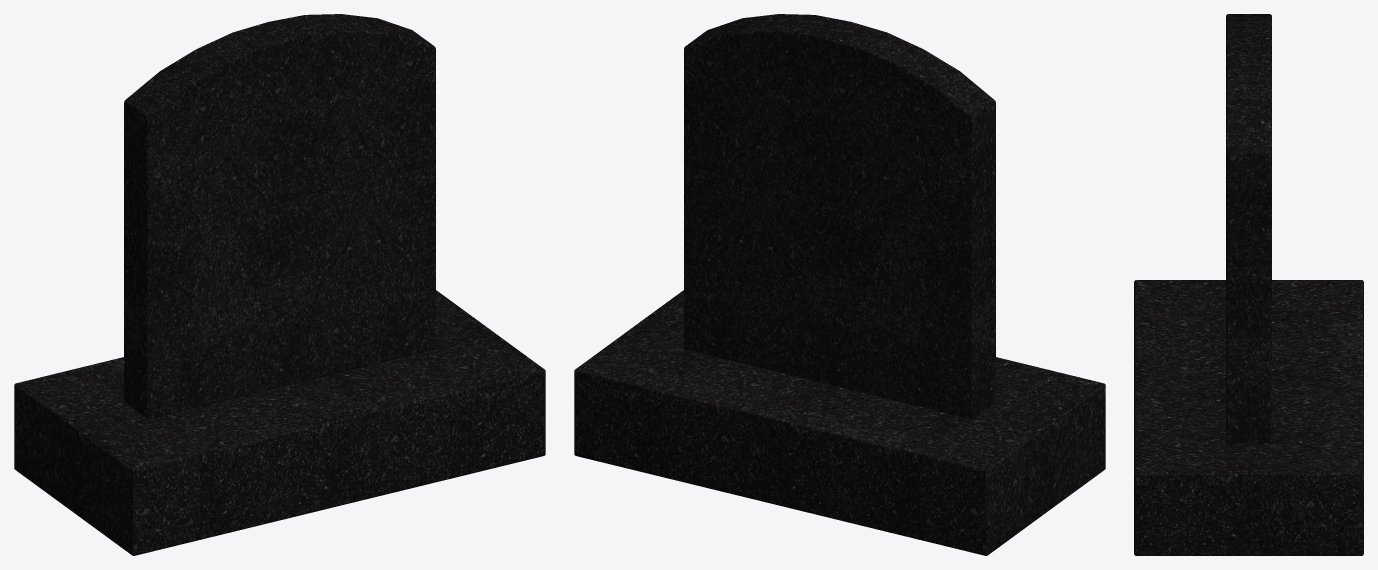
File: Number 3 (Small).gltf
3 renders of one model, left to right at view 1: azimuth 30°, elevation 25°; view 2: azimuth 150°, elevation 25°; view 3: azimuth 270°, elevation 25°, orthographic. The views are drawn at different scales.
Visible parts, largest first — view 1: Cube.014, Cube.011; view 2: Cube.014, Cube.011; view 3: Cube.011, Cube.014.
Part boxes in pixels (x1,y1,x2,y2): Cube.014: (124, 14, 435, 419); Cube.011: (14, 290, 545, 555); Cube.014: (684, 14, 995, 419); Cube.011: (574, 290, 1105, 555); Cube.011: (1134, 280, 1363, 555); Cube.014: (1226, 14, 1271, 443).
Size of the model in its own units: 0.5 by 0.5 by 0.25.
1 material, 1 textured.
